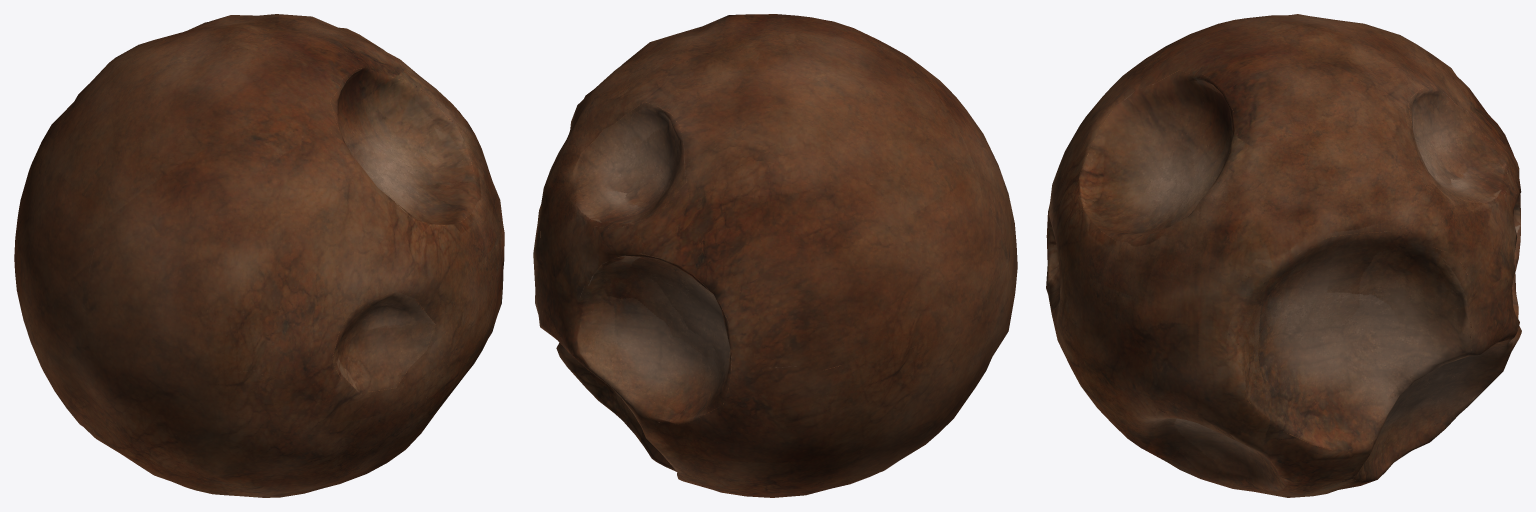
Rendered from Planet A.fbx.
3 renders of one model, left to right at view 1: azimuth 30°, elevation 25°; view 2: azimuth 150°, elevation 25°; view 3: azimuth 270°, elevation 25°, orthographic.
Visible parts, largest first — view 1: Planet_A; view 2: Planet_A; view 3: Planet_A.
Boxes of the visible parts, x1=… form: Planet_A: x1=14, y1=14, x2=504, y2=497; Planet_A: x1=533, y1=14, x2=1017, y2=497; Planet_A: x1=1046, y1=14, x2=1521, y2=497.
Bounding box in the file's own units: 7.97 × 7.87 × 7.72.
Materials: 1 (1 with a texture image).
